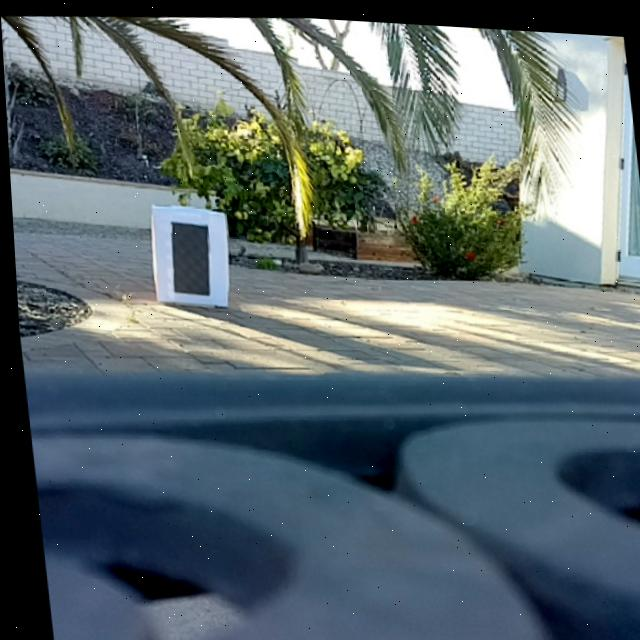led: (164, 218, 211, 296)
